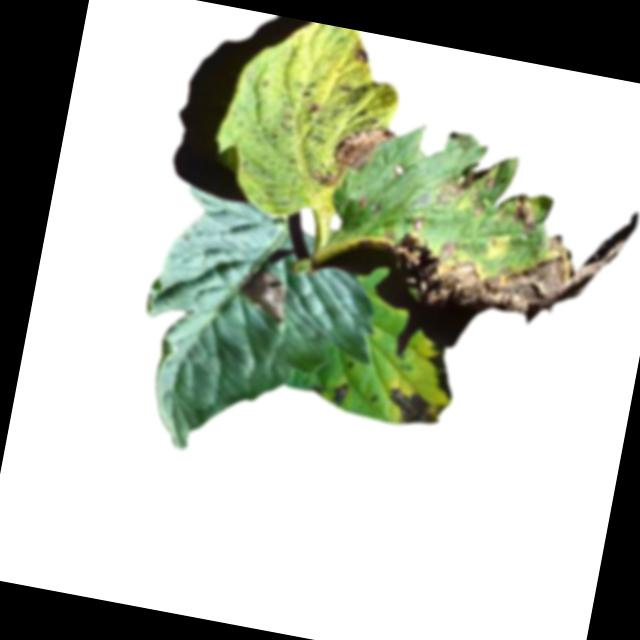Early_blight: (356, 164, 640, 340), (319, 116, 393, 198), (237, 265, 290, 322), (385, 385, 446, 431), (421, 349, 460, 404), (351, 44, 374, 66), (331, 381, 349, 408)
